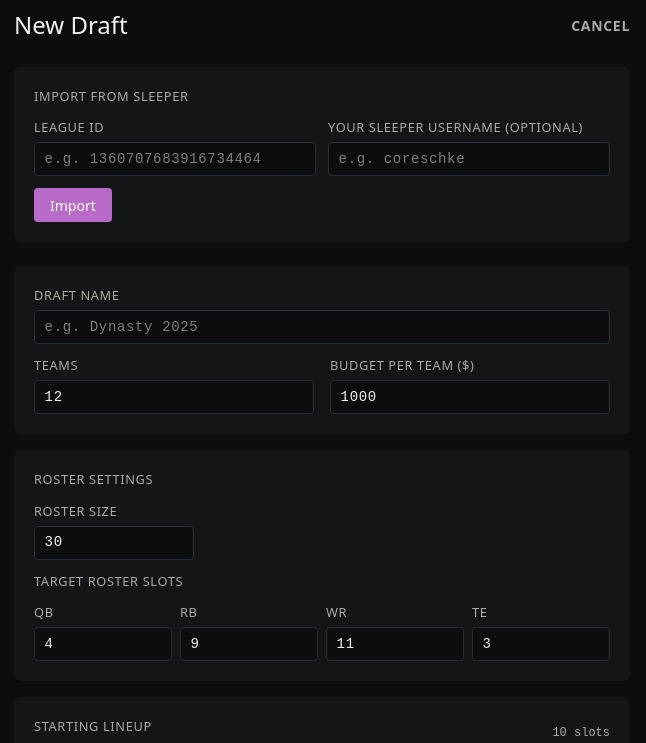
it: NewDraftPage — Sleeper import banner › shows confirm message after successful import
Type "1360707683916734464" into the field with test id "sleeper-league-id" at (175, 159), box [34,142,316,176]
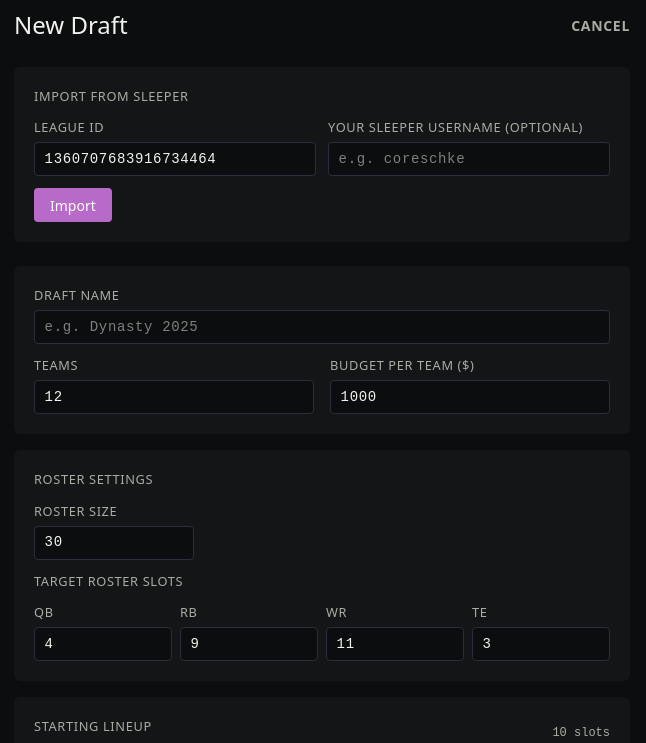
Click the button with test id "sleeper-import-button" at (73, 205), box [34,188,112,222]
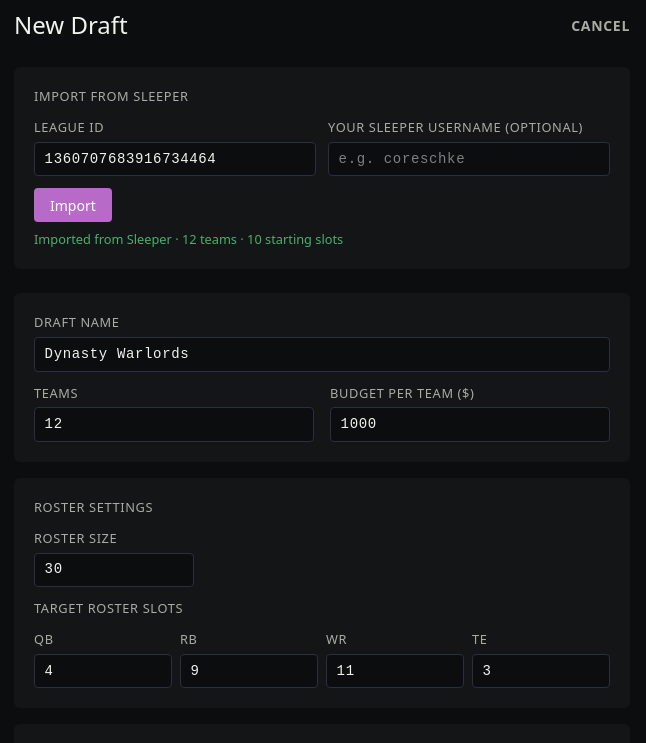
Expected: the text "Imported from Sleeper · 12 teams · 10 starting slots" is shown, [34,230,343,248]
